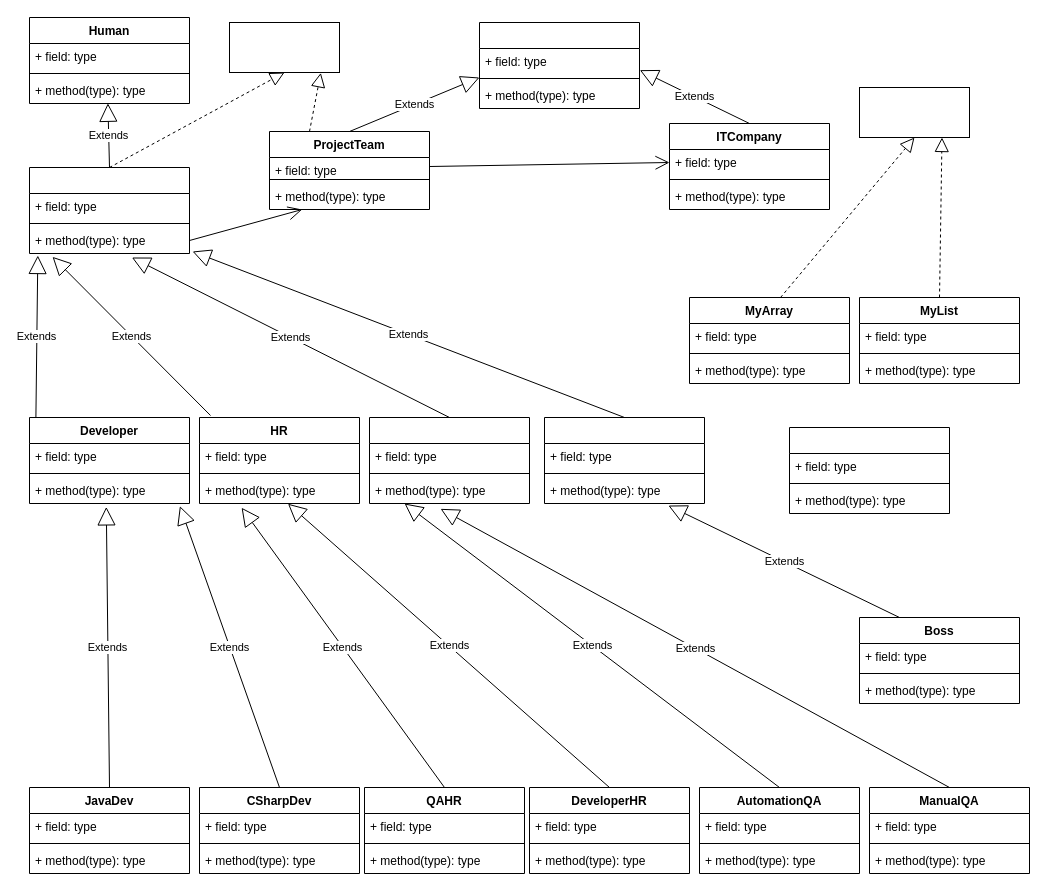
Some shapes in this 1048 by 894 pixel diagram are drawn without their labels. Here are the shapes that lost their labels. From the top down, the box of each, then its label:
(228, 22, 340, 72): «interface» Workable
(478, 22, 640, 108): Group
(858, 86, 970, 138): «interface» Storable
(28, 166, 190, 254): Employee
(368, 416, 530, 504): QA
(544, 416, 704, 504): PM
(788, 426, 950, 514): MyFactory
